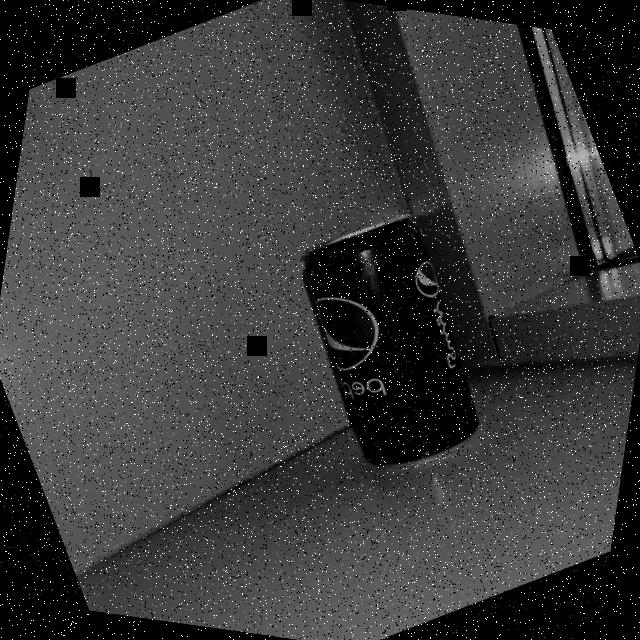can: (268, 199, 512, 485)
